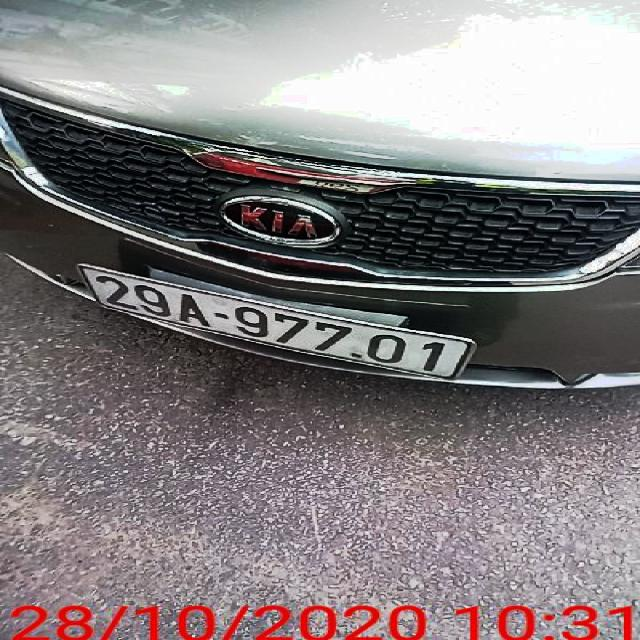license_plate: (78, 266, 478, 382)
